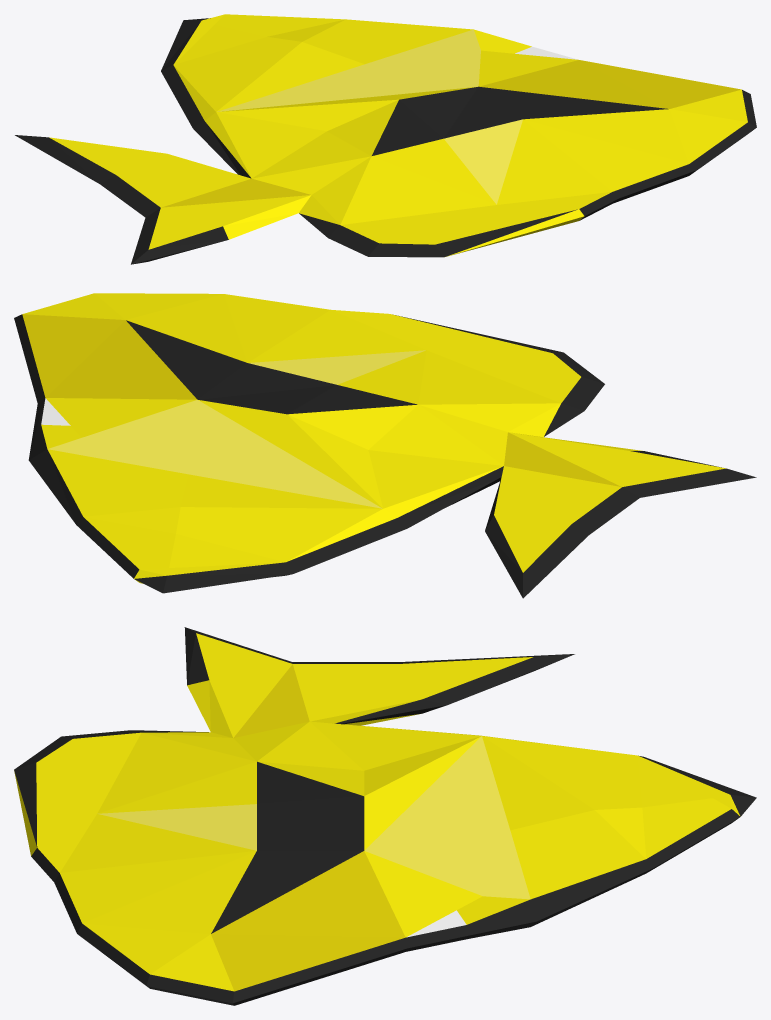
The model's file is fish_yellow.obj.
3 views of the same model, one above another, from view 1: azimuth 30°, elevation 25°; view 2: azimuth 150°, elevation 25°; view 3: azimuth 270°, elevation 25° (orthographic). The views are drawn at different scales.
Visible parts, largest first — view 1: Plane; view 2: Plane; view 3: Plane.
Part boxes in pixels (<box>): Plane: <box>15,14,756,264</box>; Plane: <box>14,293,756,598</box>; Plane: <box>14,627,756,1005</box>.
Bounding box in the file's own units: 7.25 × 0.5833 × 6.05.
